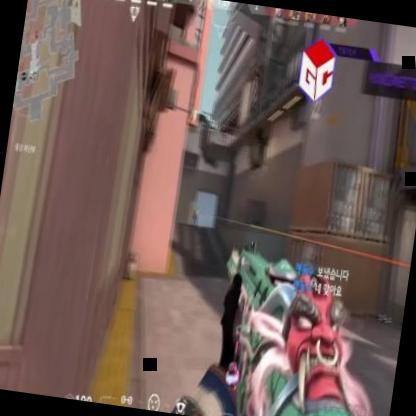enemy: (190, 204, 200, 226)
enemy_head: (194, 204, 198, 210)
